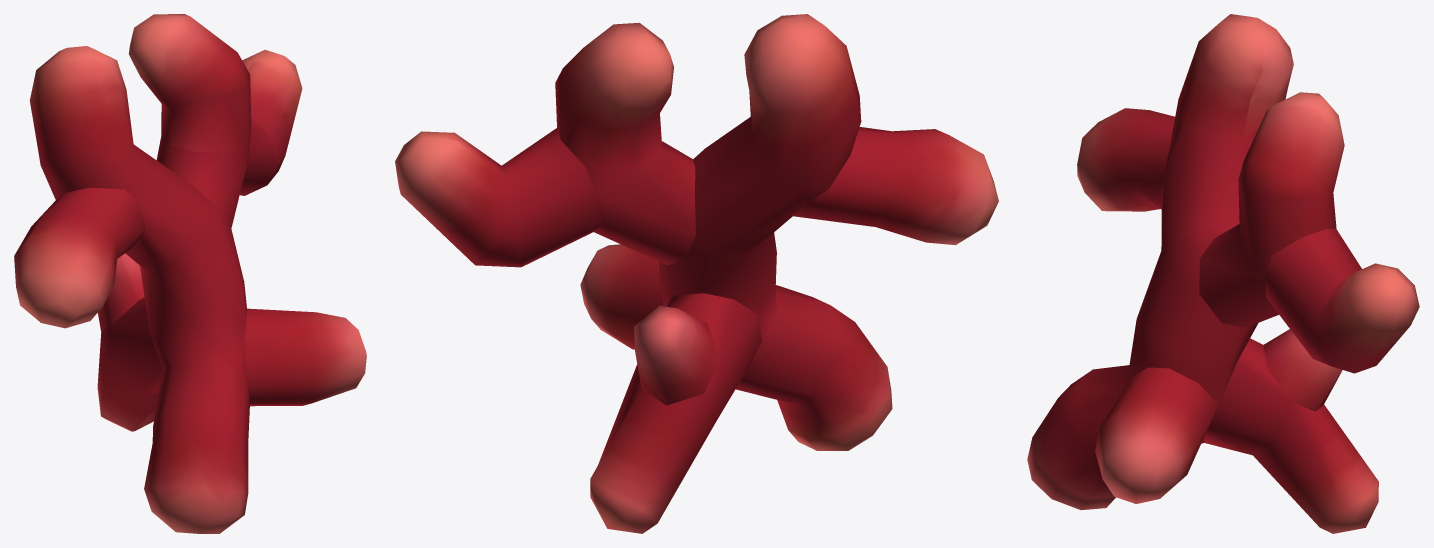
Rendered from coral.glb.
3 renders of one model, left to right at view 1: azimuth 30°, elevation 25°; view 2: azimuth 150°, elevation 25°; view 3: azimuth 270°, elevation 25°, orthographic. The views are drawn at different scales.
Size of the model in its own units: 2.74 by 2.89 by 2.23.
1 material, 1 textured.
